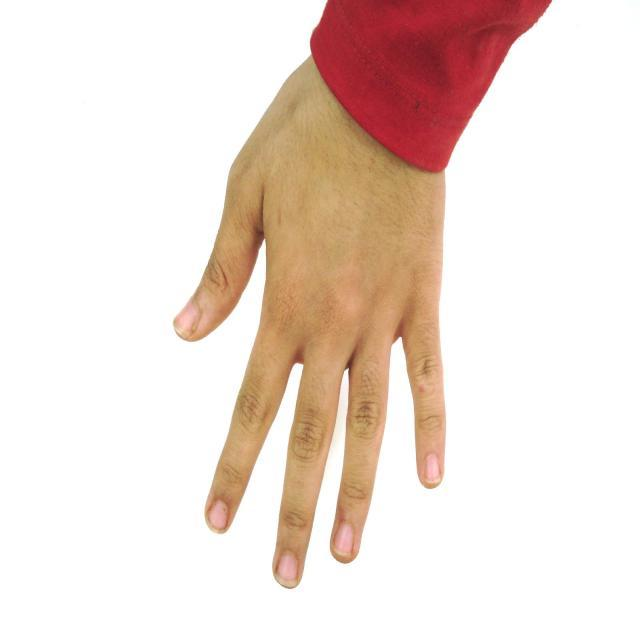Fingernail: (173, 298, 201, 340), (276, 552, 298, 587), (334, 521, 354, 557), (208, 500, 228, 530), (425, 454, 440, 483)
